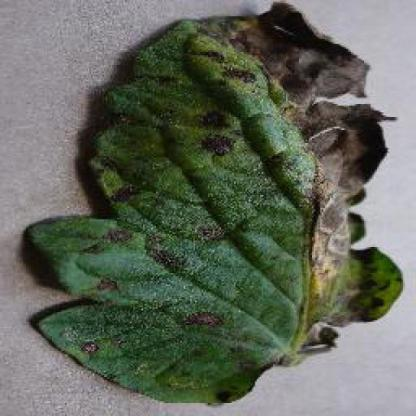Tomato_Blight: (27, 6, 405, 401)
